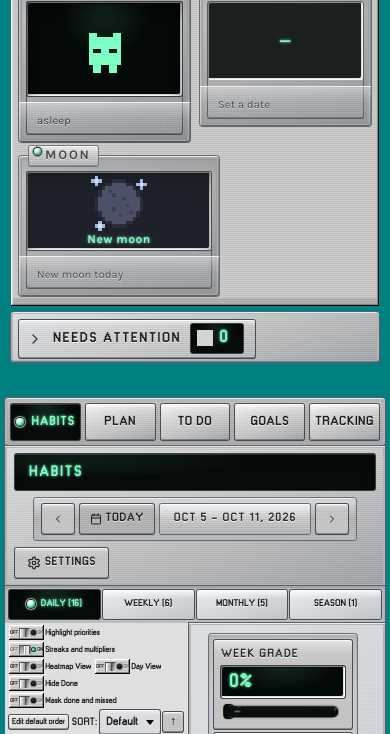
it: HomeDashboard › Tracking nested sub-tabs › uses the same view-changer chrome as Habits Daily / Weekly / Monthly
The image size is (390, 734).
(page scrolled)
Click the tab "Tracking" at (345, 422), box [310,404,379,440]
(page scrolled)
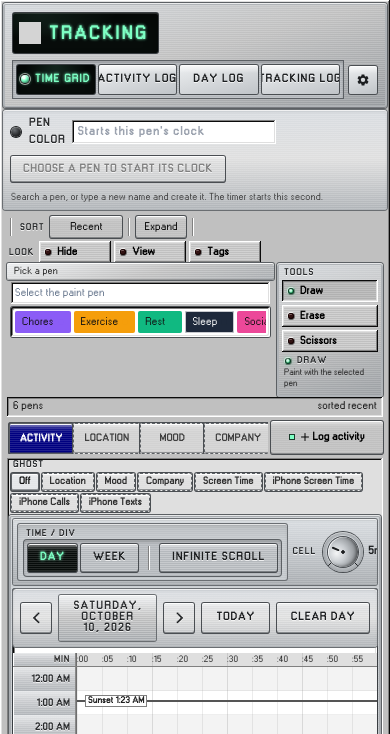
Expected: the element named "Tracking view" is shown, [13,61,343,98]
Expected: the tab "Time Grid" is shown, [17,65,94,94]
Expected: the tab "Activity Log" is shown, [98,65,176,94]
